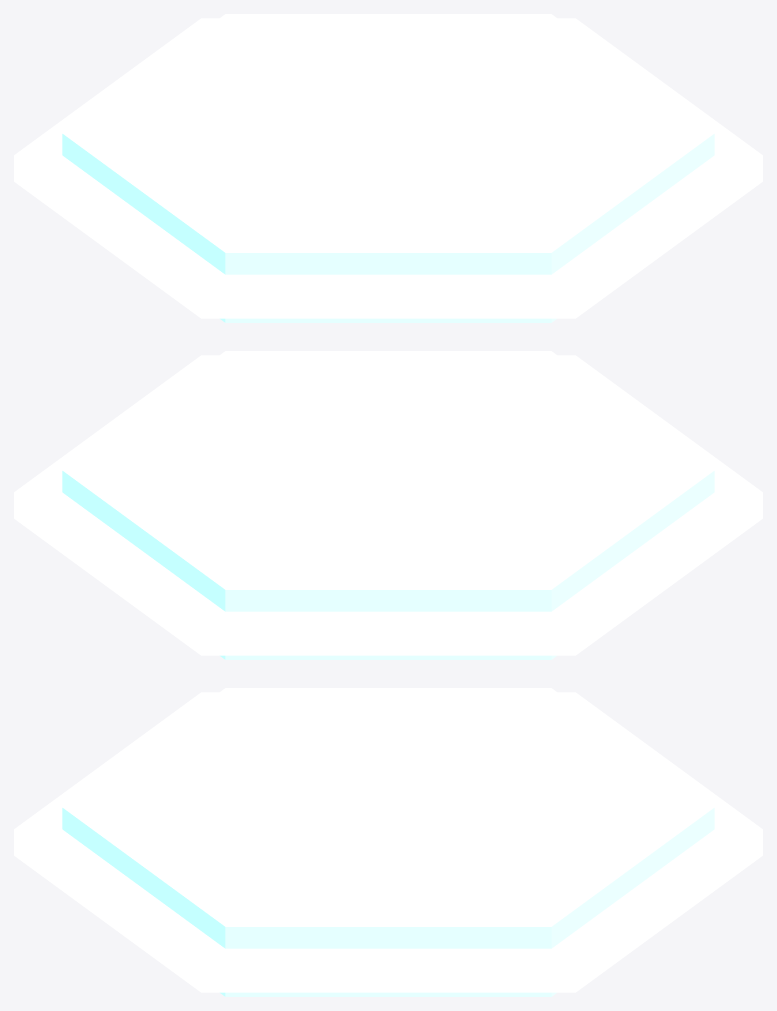
Rendered from interact_buff_shield.glb.
3 renders of one model, top to bottom at view 1: azimuth 30°, elevation 25°; view 2: azimuth 150°, elevation 25°; view 3: azimuth 270°, elevation 25°, orthographic.
Visible parts, largest first — view 1: interact_buff_shield; view 2: interact_buff_shield; view 3: interact_buff_shield.
Part boxes in pixels (x1,y1,x2,y2): interact_buff_shield: [14, 14, 762, 322]; interact_buff_shield: [14, 351, 762, 659]; interact_buff_shield: [14, 688, 762, 996].
Size of the model in its own units: 2.68 by 0.42 by 3.1.
